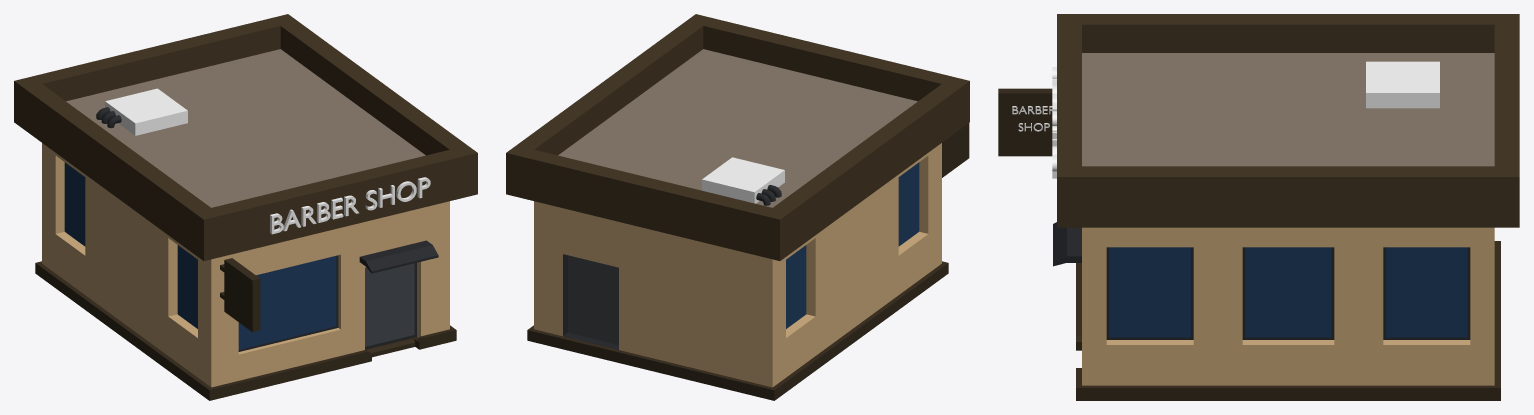
File: Barber Shop_1.fbx
3 renders of one model, left to right at view 1: azimuth 30°, elevation 25°; view 2: azimuth 150°, elevation 25°; view 3: azimuth 270°, elevation 25°, orthographic. The views are drawn at different scales.
Parts seen in each view (by area): view 1: Barber Shop_1; view 2: Barber Shop_1; view 3: Barber Shop_1.
Boxes of the visible parts, left/top/right/bottom form: Barber Shop_1: left=14, top=14, right=477, bottom=400; Barber Shop_1: left=506, top=14, right=969, bottom=400; Barber Shop_1: left=998, top=14, right=1519, bottom=400.
Bounding box in the file's own units: 789 × 523 × 1067.
